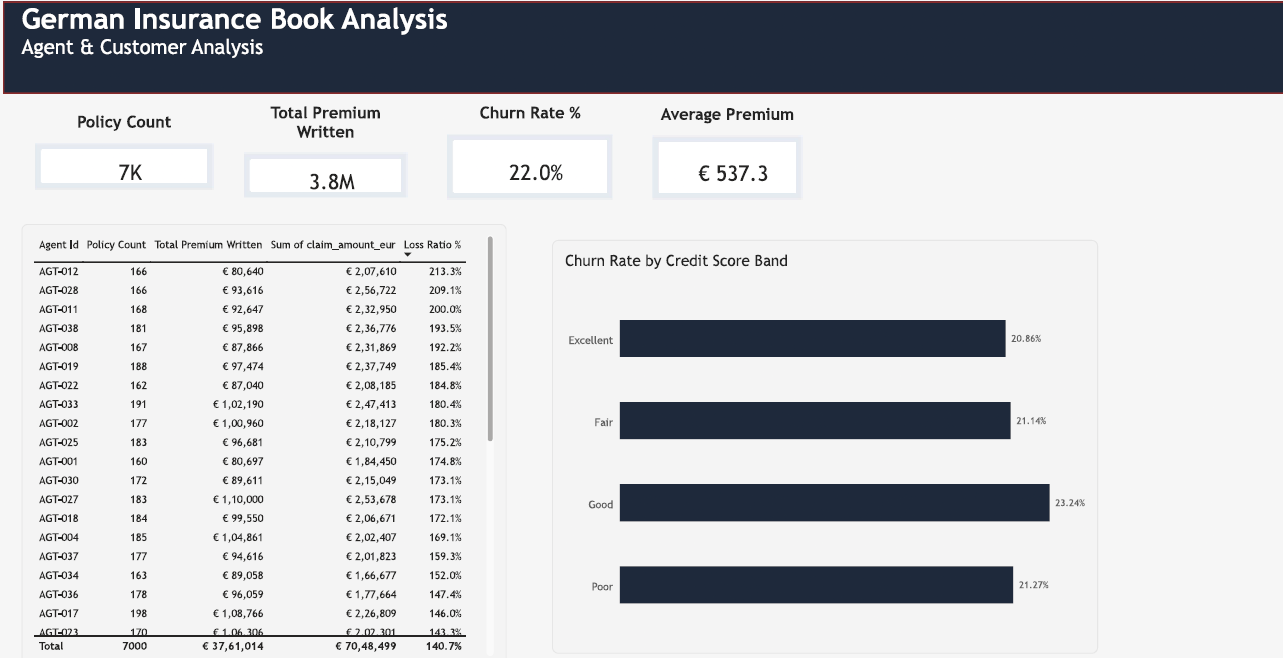

Layout of this report page (visuals, bound fields, positions):
{"tool":"powerbi","page":{"name":"Agent & Customer Analysis","canvas":[1920,1080],"ordinal":2},"visuals":[{"type":"shape","box":[8.3,10,1686.7,120],"z":0},{"type":"textbox","box":[31.7,10,586.7,63.3],"z":1000},{"type":"textbox","box":[31.7,53.3,638.3,76.7],"z":2000},{"type":"cardVisual","title":"Policy Count","fields":{"Data":["DateTable.Policy Count"]},"box":[50,155,234.3,101.4],"z":3000},{"type":"cardVisual","title":"Total Premium Written","fields":{"Data":["DateTable.Total Premium Written"]},"box":[325,143.3,214.3,124.3],"z":4000},{"type":"cardVisual","title":"Churn Rate %","fields":{"Data":["DateTable.Churn Rate %"]},"box":[591.7,143.3,218,126],"z":5000},{"type":"cardVisual","title":"Average Premium","fields":{"Data":["DateTable.Average Premium"]},"box":[861.7,145,197.1,124.3],"z":6000},{"type":"tableEx","fields":{"Values":["policies.agent_id","DateTable.Policy Count","DateTable.Total Premium Written","Sum(claims.claim_amount_eur)","DateTable.Loss Ratio %"]},"box":[31.7,301.7,638.3,585],"z":7000},{"type":"barChart","title":"Churn Rate by Credit Score Band","fields":{"Category":["customers.credit_score_band"],"Y":["DateTable.Churn Rate %"]},"box":[730,323.3,718.3,543.3],"z":8000}]}

Visuals, with their boxes on the page's 1920x1080 design canvas (x1, y1, x2, y2). These are canvas units, not pixel positions in the 1283x658 screenshot, which may show the page scaled, cropped or inside an application window:
shape: box=[8, 10, 1695, 130]
textbox: box=[32, 10, 618, 73]
textbox: box=[32, 53, 670, 130]
"Policy Count" cardVisual: box=[50, 155, 284, 256]
"Total Premium Written" cardVisual: box=[325, 143, 539, 268]
"Churn Rate %" cardVisual: box=[592, 143, 810, 269]
"Average Premium" cardVisual: box=[862, 145, 1059, 269]
tableEx - policies.agent_id x DateTable.Policy Count: box=[32, 302, 670, 887]
"Churn Rate by Credit Score Band" barChart: box=[730, 323, 1448, 867]
